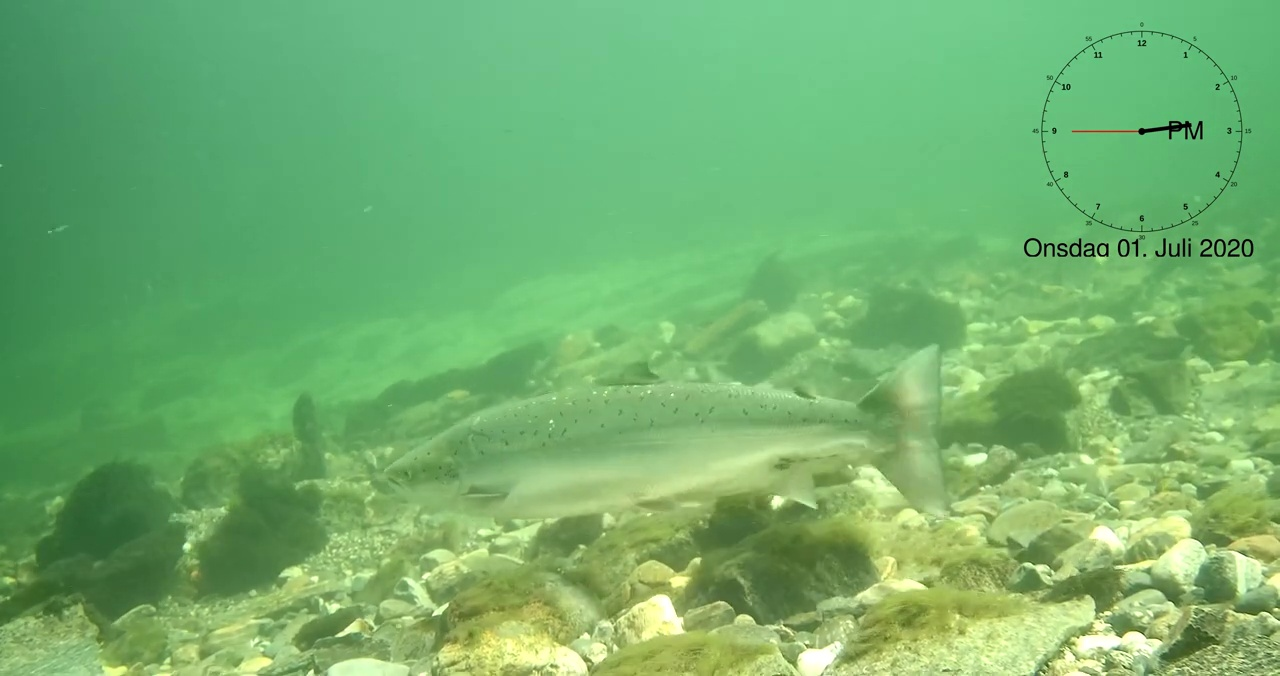salmon: (380, 341, 953, 524)
